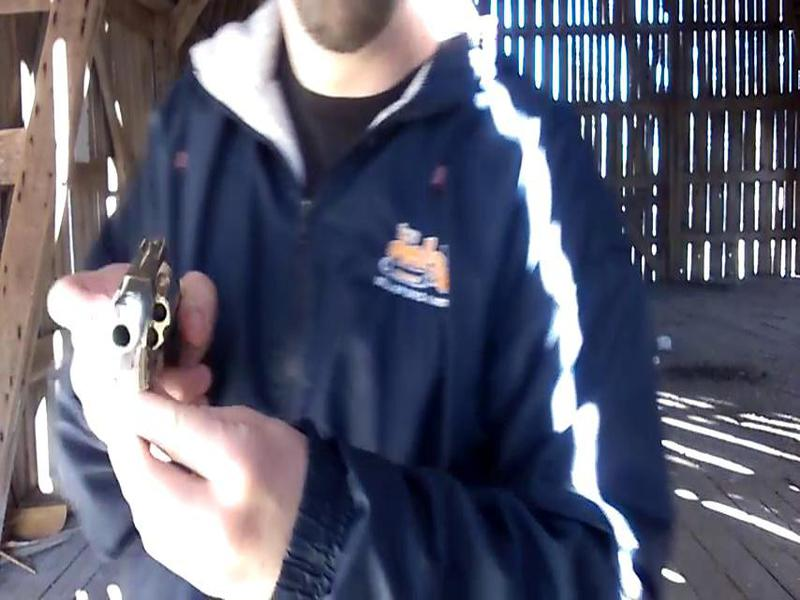Revolver: (99, 228, 194, 413)
